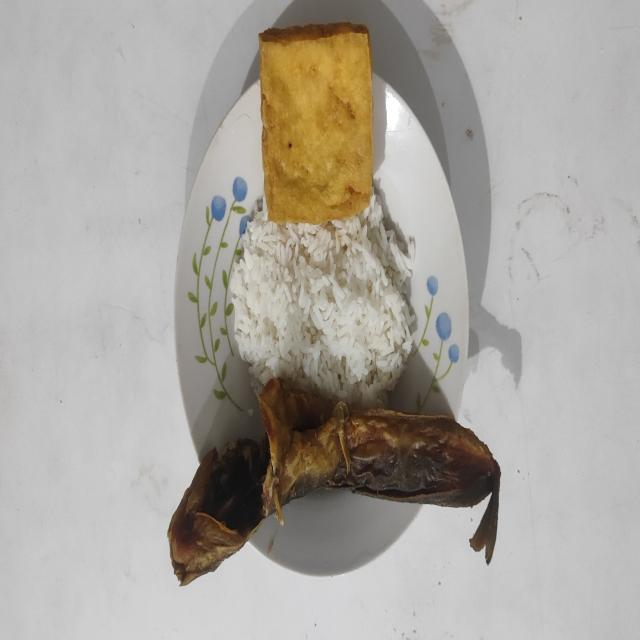nasi_putih: (229, 192, 417, 406)
tahu_goreng: (259, 23, 373, 224)
